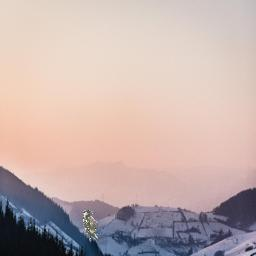Woodpecker: (83, 210, 100, 243)
